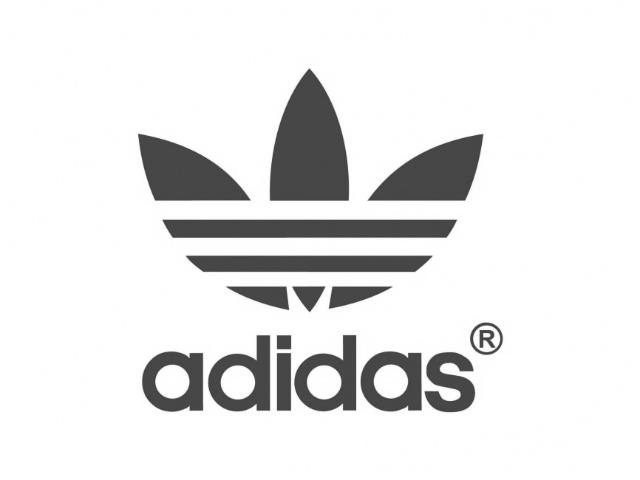Adidas: (123, 43, 507, 425), (132, 52, 502, 316), (131, 317, 509, 431)
